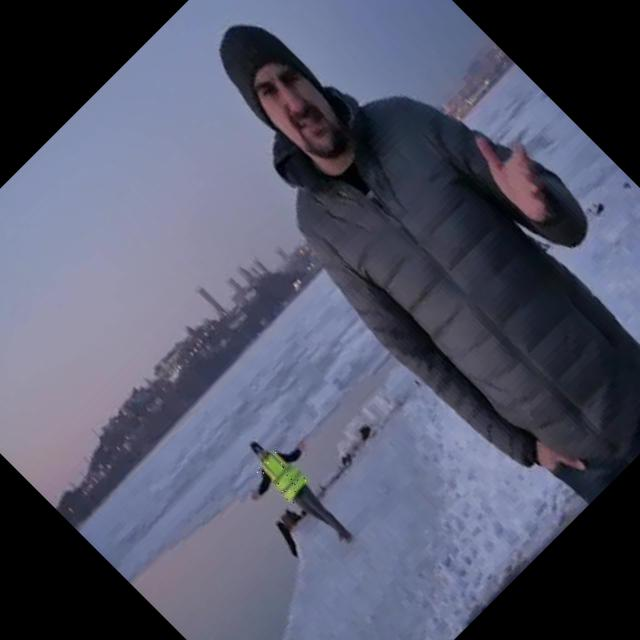safety_vest: (250, 442, 312, 506)
